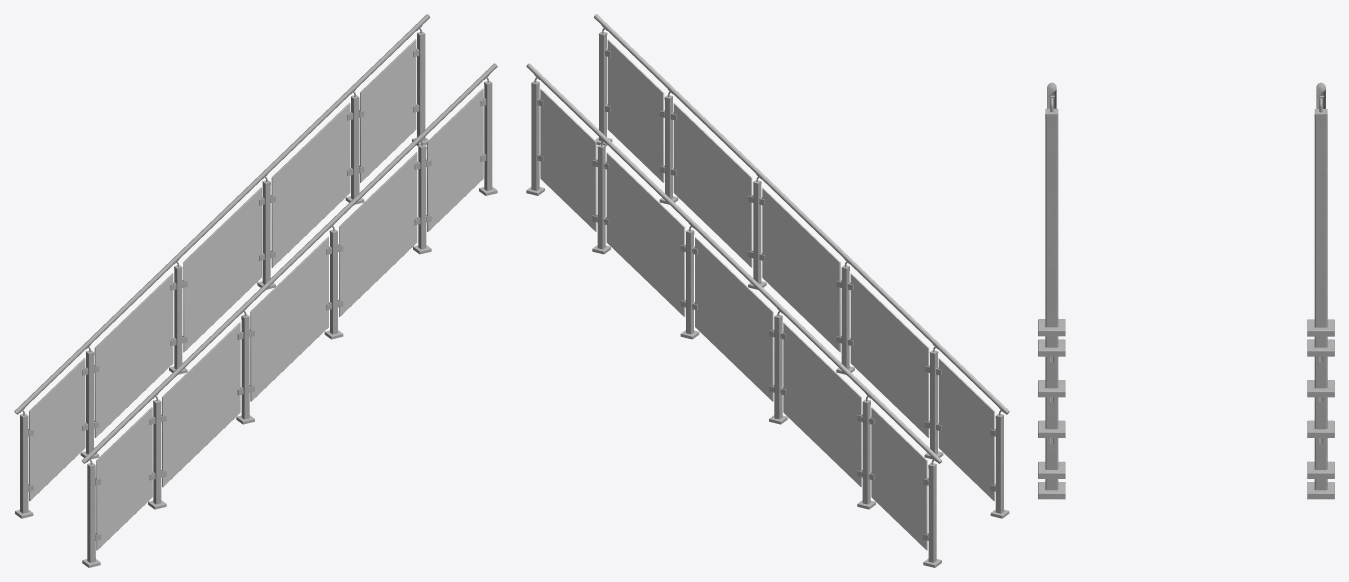
The model's file is Straight_Railing_Circum-Square_Glass.gltf.
3 views of the same model, side by side, from view 1: azimuth 30°, elevation 25°; view 2: azimuth 150°, elevation 25°; view 3: azimuth 270°, elevation 25° (orthographic). The views are drawn at different scales.
Visible parts, largest first — view 1: Glass Panel_014, Glass Panel_008, Glass Panel_015, Glass Panel_012, Glass Panel_013, Glass Panel_009, LS208 & LS209 - Circum Square Post Material LS Material [846 (×6), Glass Panel_011, Glass Panel_010, Glass Panel_007, Glass Panel_017, LS208 & LS209 - Circum Square Post Material LS Material [872 (×6) (+4 smaller); view 2: Glass Panel_015, Glass Panel_009, Glass Panel_008, Glass Panel_013, Glass Panel_014, Glass Panel_012, LS208 & LS209 - Circum Square Post Material LS Material [872 (×6), Glass Panel_011, Glass Panel_007, Glass Panel_010, Glass Panel_017, LS208 & LS209 - Circum Square Post Material LS Material [846 (×6) (+4 smaller); view 3: LS208 & LS209 - Circum Square Post Material LS Material [846 (×4), LS208 & LS209 - Circum Square Post Material LS Material [872 (×4), CSQ001-US - Surface Mount Weldment Part [8723797]002, CSQ001-US - Surface Mount Weldment Part [8723797]003, CSQ001-US - Surface Mount Weldment Part [8723797]004, CSQ001-US - Surface Mount Weldment Part [8723797]007, CSQ001-US - Surface Mount Weldment Part [8723797]008, CSQ001-US - Surface Mount Weldment Part [8723797]009, CSQ001-US - Surface Mount Weldment Part [8723797]010, CSQ001-US - Surface Mount Weldment Part [8723797]011, CSQ001-US - Surface Mount Weldment Part [8723797]012, CSQ001-US - Surface Mount Weldment Part [8723797]001 (+2 smaller).
Boxes of the visible parts, <box> form: Glass Panel_014: <box>94,273,173,437</box>; Glass Panel_008: <box>271,103,350,267</box>; Glass Panel_015: <box>162,322,240,487</box>; Glass Panel_012: <box>183,187,261,352</box>; Glass Panel_013: <box>250,236,328,401</box>; Glass Panel_009: <box>339,152,417,316</box>; LS208 & LS209 - Circum Square Post Material LS Material [846 (×6): <box>87,83,492,562</box>; Glass Panel_011: <box>427,88,483,231</box>; Glass Panel_010: <box>360,39,416,182</box>; Glass Panel_007: <box>29,358,85,501</box>; Glass Panel_017: <box>96,407,152,550</box>; LS208 & LS209 - Circum Square Post Material LS Material [872 (×6): <box>20,33,425,513</box>; Glass Panel_015: <box>850,273,929,437</box>; Glass Panel_009: <box>673,103,752,267</box>; Glass Panel_008: <box>606,152,685,316</box>; Glass Panel_013: <box>762,187,840,352</box>; Glass Panel_014: <box>783,322,861,487</box>; Glass Panel_012: <box>695,236,773,401</box>; LS208 & LS209 - Circum Square Post Material LS Material [872 (×6): <box>531,83,936,562</box>; Glass Panel_011: <box>607,39,664,182</box>; Glass Panel_007: <box>871,407,927,550</box>; Glass Panel_010: <box>540,88,596,231</box>; Glass Panel_017: <box>938,358,994,501</box>; LS208 & LS209 - Circum Square Post Material LS Material [846 (×6): <box>599,33,1003,513</box>; LS208 & LS209 - Circum Square Post Material LS Material [846 (×4): <box>1045,114,1058,469</box>; LS208 & LS209 - Circum Square Post Material LS Material [872 (×4): <box>1314,115,1327,469</box>; CSQ001-US - Surface Mount Weldment Part [8723797]002: <box>1038,482,1065,499</box>; CSQ001-US - Surface Mount Weldment Part [8723797]003: <box>1038,319,1065,336</box>; CSQ001-US - Surface Mount Weldment Part [8723797]004: <box>1038,339,1065,356</box>; CSQ001-US - Surface Mount Weldment Part [8723797]007: <box>1038,380,1065,397</box>; CSQ001-US - Surface Mount Weldment Part [8723797]008: <box>1307,339,1334,356</box>; CSQ001-US - Surface Mount Weldment Part [8723797]009: <box>1307,380,1334,397</box>; CSQ001-US - Surface Mount Weldment Part [8723797]010: <box>1307,319,1334,336</box>; CSQ001-US - Surface Mount Weldment Part [8723797]011: <box>1307,482,1334,499</box>; CSQ001-US - Surface Mount Weldment Part [8723797]012: <box>1307,461,1334,478</box>; CSQ001-US - Surface Mount Weldment Part [8723797]001: <box>1038,461,1065,478</box>.
Size of the model in its own units: 3.75 by 3.48 by 1.16.
